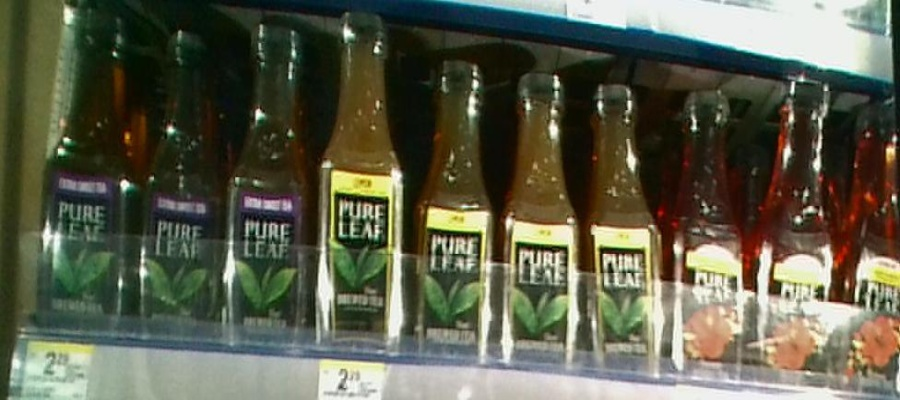bottle: (312, 4, 411, 356), (40, 4, 136, 345), (226, 7, 310, 346), (138, 11, 224, 340), (496, 66, 586, 371), (416, 34, 494, 363), (758, 77, 837, 384), (671, 89, 748, 383), (591, 74, 667, 371), (839, 96, 896, 389)
